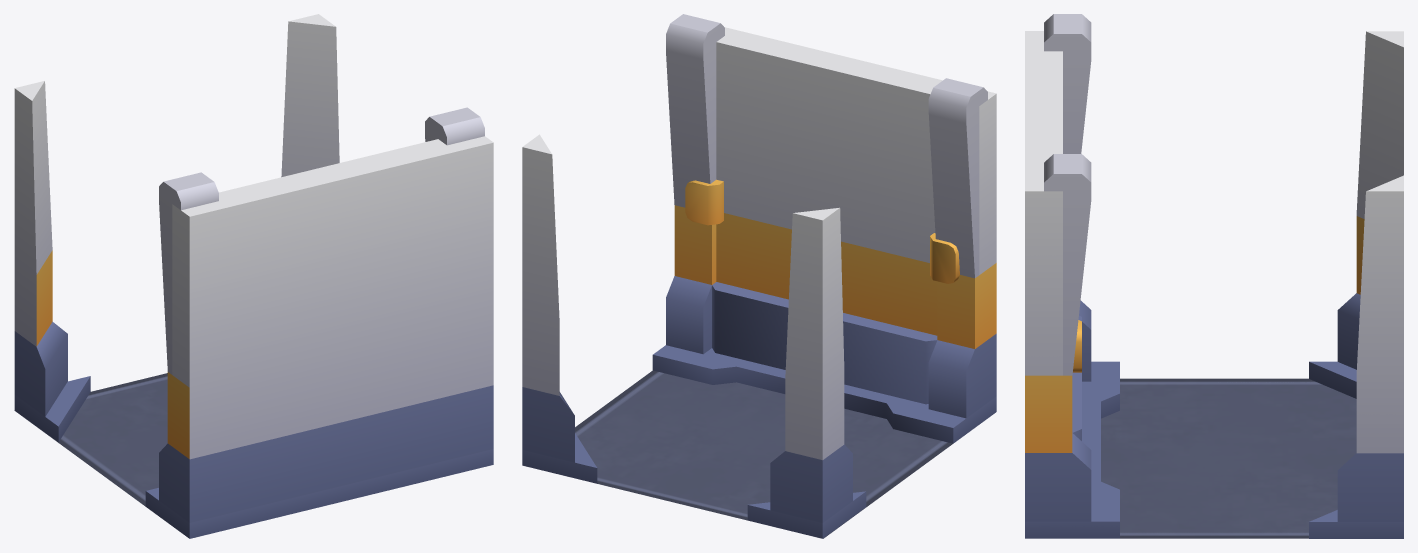
Rendered from kenney-space-corridor-junction.glb.
3 views of the same model, side by side, from view 1: azimuth 30°, elevation 25°; view 2: azimuth 150°, elevation 25°; view 3: azimuth 270°, elevation 25° (orthographic). The views are drawn at different scales.
Visible parts, largest first — view 1: corridor-junction; view 2: corridor-junction; view 3: corridor-junction.
Part boxes in pixels (left/top/right/bottom): corridor-junction: left=14, top=14, right=493, bottom=538; corridor-junction: left=522, top=14, right=996, bottom=538; corridor-junction: left=1025, top=14, right=1403, bottom=538.
Size of the model in its own units: 3 by 3.19 by 3.
Materials: 1 (1 with a texture image).
